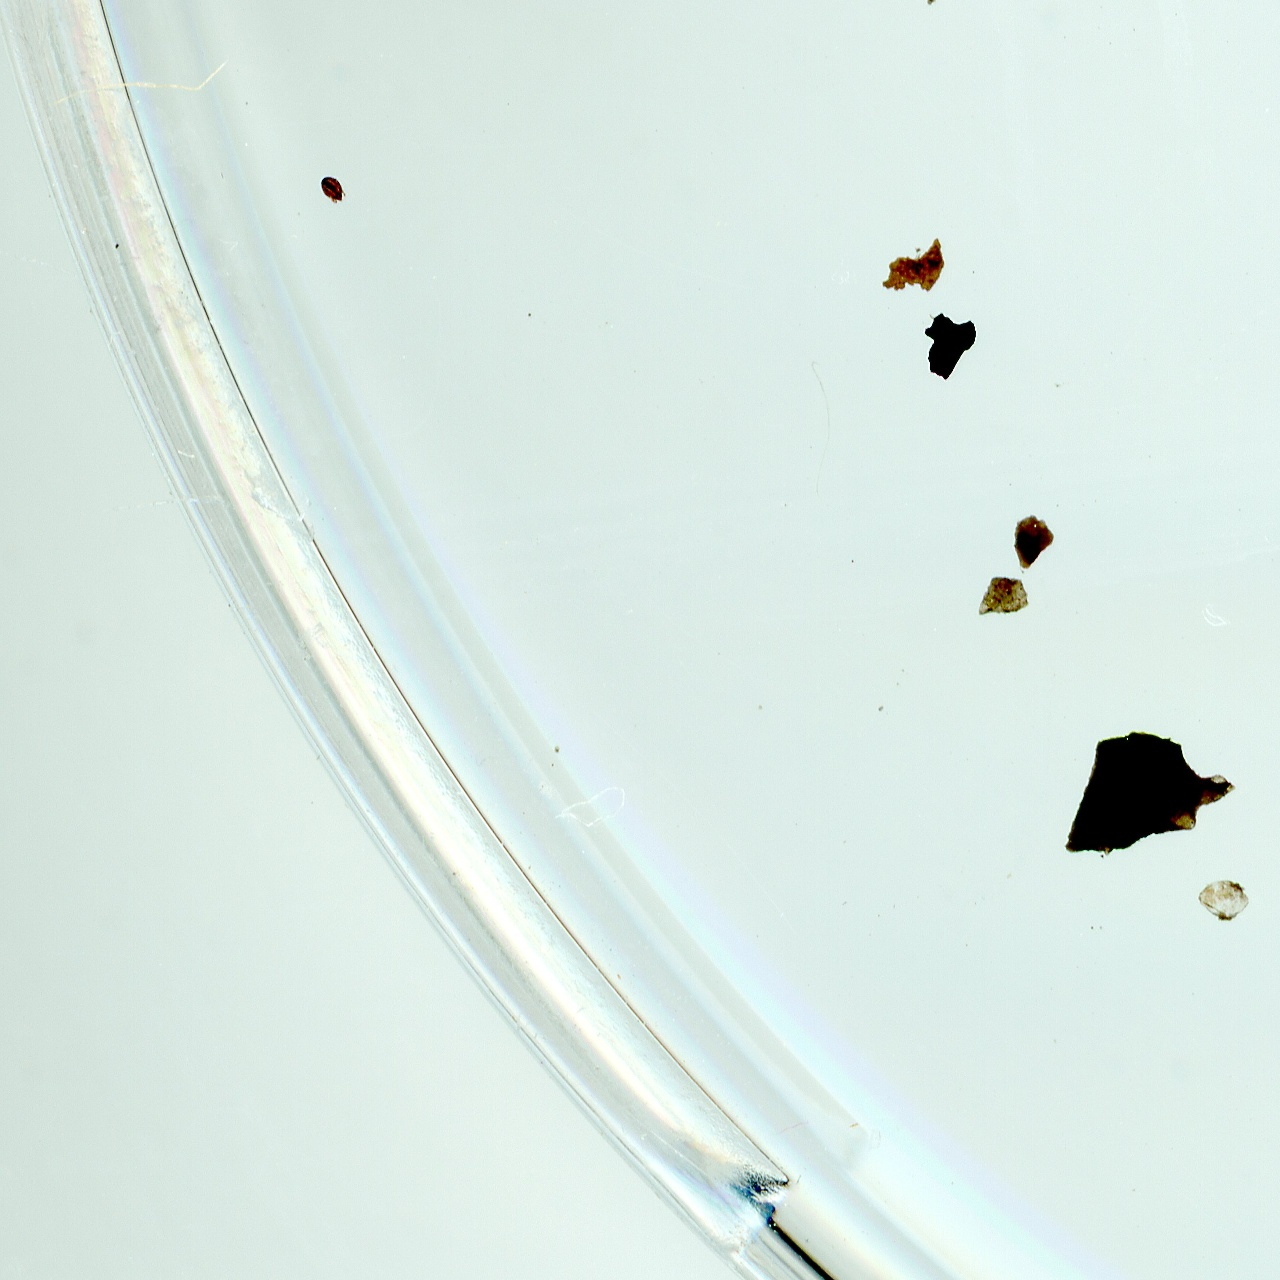arthropod: (307, 165, 355, 212)
